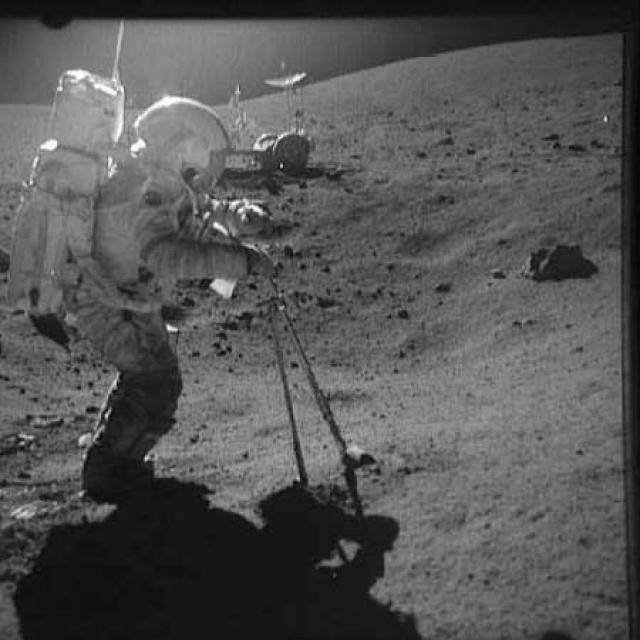crater: (390, 222, 486, 266)
rock: (523, 232, 596, 286), (428, 274, 460, 297), (277, 234, 303, 258), (537, 124, 561, 146), (433, 133, 464, 146), (390, 304, 412, 322), (483, 265, 508, 280)
